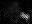person: (21, 15, 30, 23)
